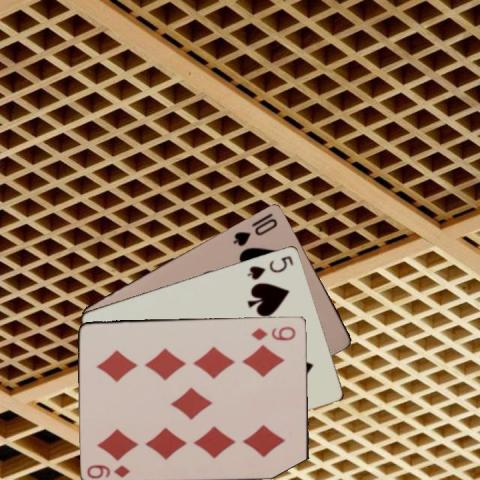10s: (231, 215, 279, 247)
5s: (244, 252, 295, 281)
9d: (248, 324, 297, 342), (85, 461, 132, 479)
